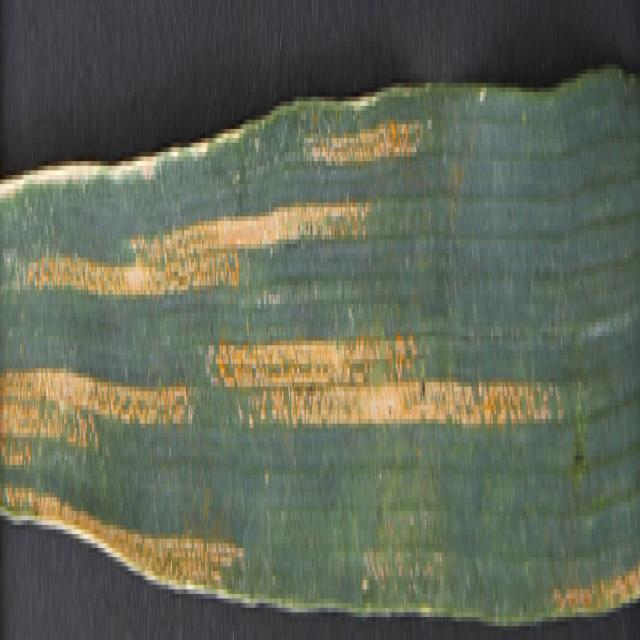leaf rust: (1, 106, 566, 566)
